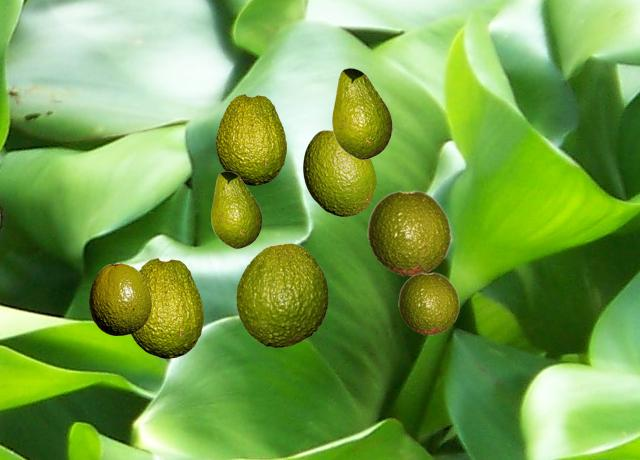avocado: (236, 243, 327, 346), (367, 190, 451, 275), (131, 258, 202, 357), (216, 94, 285, 184), (303, 130, 375, 215), (332, 68, 391, 158), (89, 263, 150, 334), (211, 171, 261, 247), (398, 272, 459, 334)
